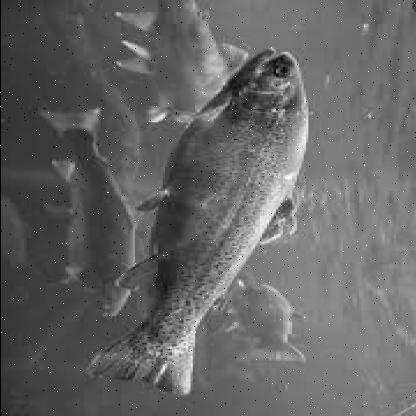fish: (85, 42, 317, 396), (35, 104, 150, 322)
